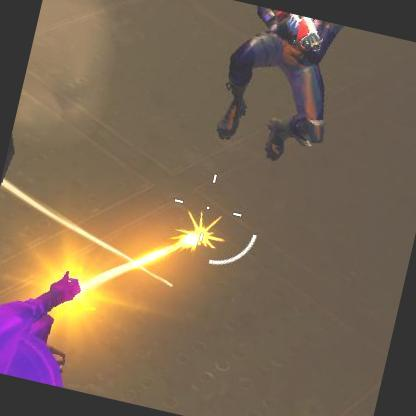person: (208, 3, 354, 172)
